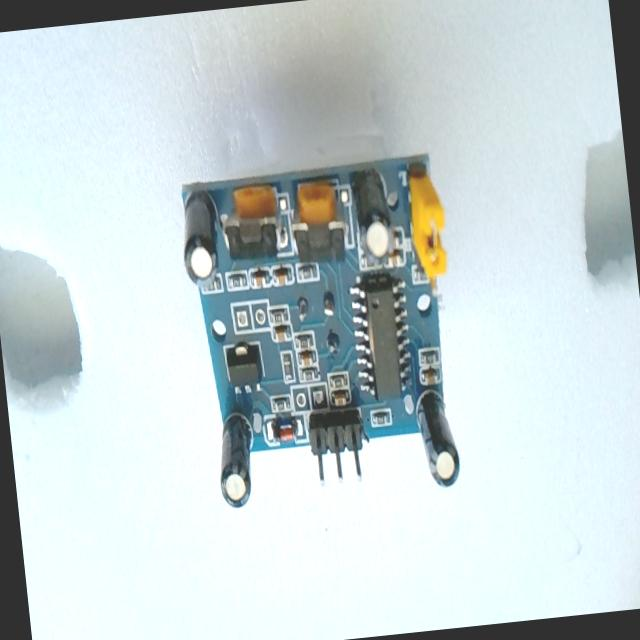Electrolytic capacitor: (414, 386, 463, 491), (176, 187, 223, 288), (213, 411, 260, 511), (350, 168, 396, 264)
IC: (349, 270, 417, 402)
pinheader: (306, 406, 372, 488)
